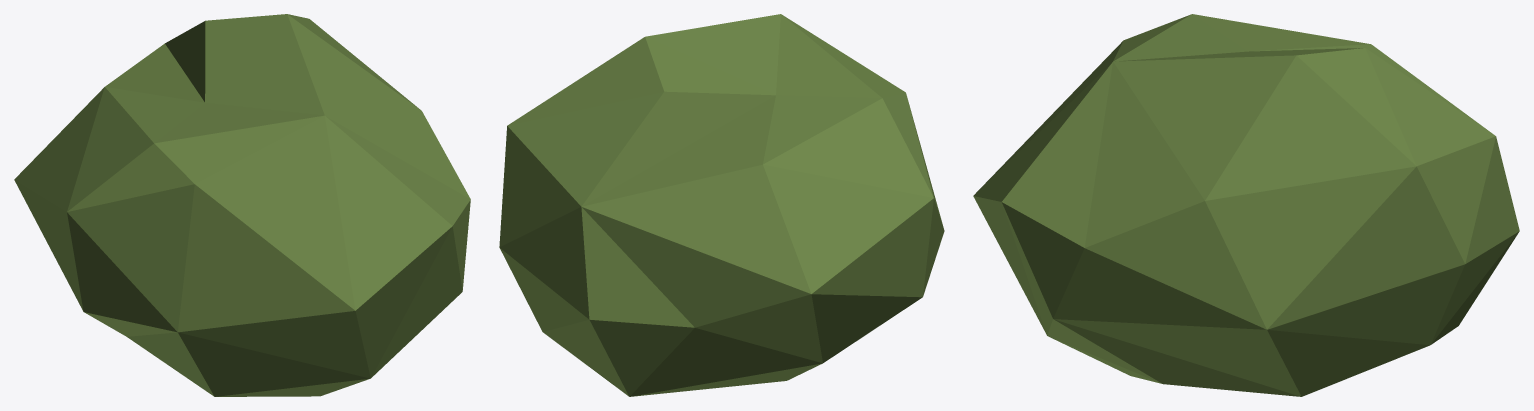
File: SM_Bush_1.FBX
3 renders of one model, left to right at view 1: azimuth 30°, elevation 25°; view 2: azimuth 150°, elevation 25°; view 3: azimuth 270°, elevation 25°, orthographic. The views are drawn at different scales.
Visible parts, largest first — view 1: SM_Bush_1; view 2: SM_Bush_1; view 3: SM_Bush_1.
Part boxes in pixels (x1,y1,x2,y2): SM_Bush_1: (14, 14, 470, 396); SM_Bush_1: (499, 14, 944, 396); SM_Bush_1: (973, 14, 1519, 396).
Size of what is drawn, in the model's own units: 164 by 184 by 130.
